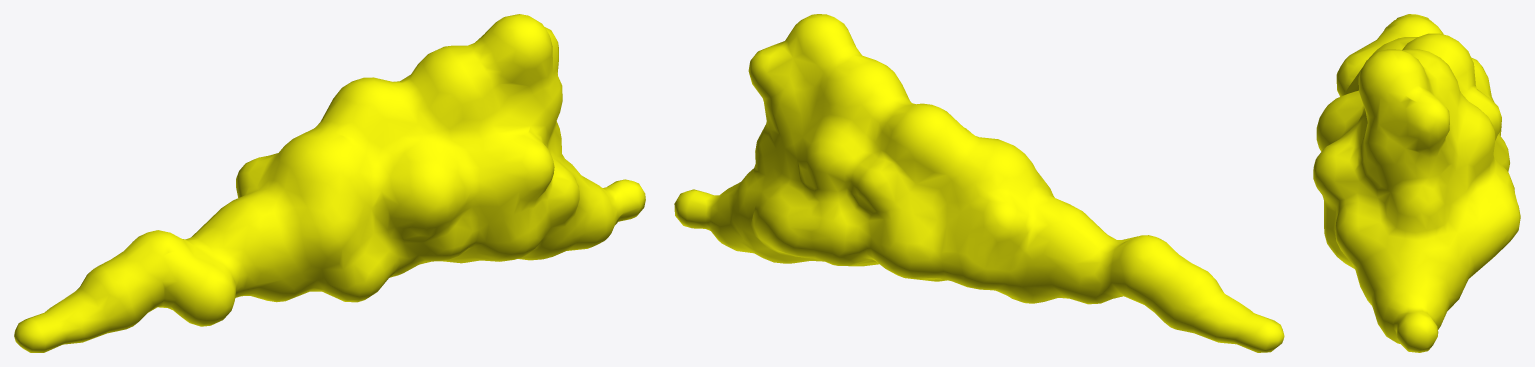
The model's file is cloud_g.glb.
3 renders of one model, left to right at view 1: azimuth 30°, elevation 25°; view 2: azimuth 150°, elevation 25°; view 3: azimuth 270°, elevation 25°, orthographic. The views are drawn at different scales.
Parts seen in each view (by area): view 1: SM_Cloud_07; view 2: SM_Cloud_07; view 3: SM_Cloud_07.
Boxes of the visible parts, bbox=[...] form: SM_Cloud_07: bbox=[14, 14, 645, 352]; SM_Cloud_07: bbox=[674, 14, 1284, 352]; SM_Cloud_07: bbox=[1313, 14, 1520, 352].
Bounding box in the file's own units: 21.47 × 8.23 × 6.1.
